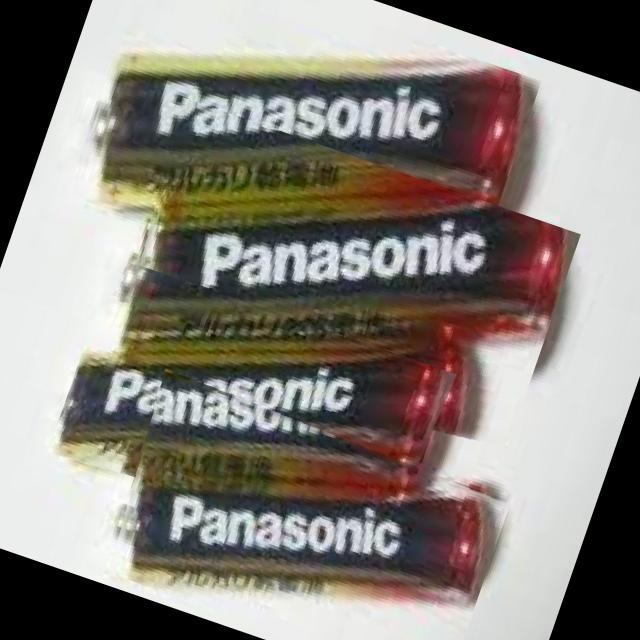Hazard: (95, 96, 580, 486), (65, 0, 541, 327), (46, 257, 458, 572), (96, 368, 515, 640)
